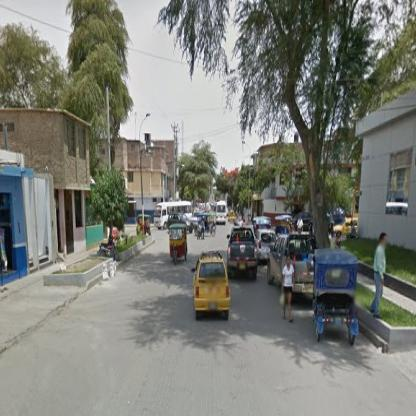Peaton: (370, 234, 388, 320)
Vehiculo: (314, 251, 359, 345), (269, 236, 316, 294), (193, 253, 231, 321), (226, 228, 259, 282), (154, 202, 193, 235), (170, 225, 188, 265), (276, 215, 295, 235), (215, 202, 228, 225)
